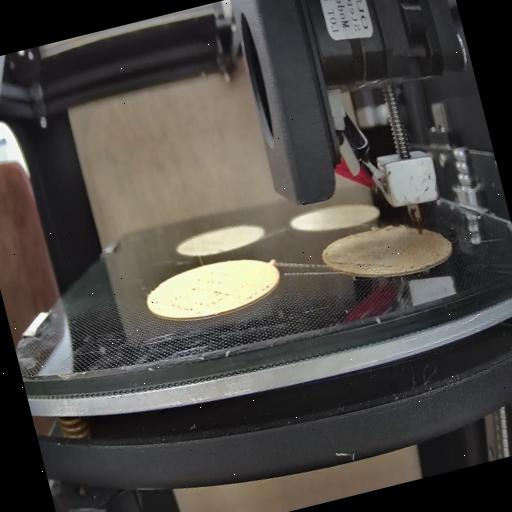under_extrusion: (150, 269, 272, 322), (329, 244, 393, 284), (401, 231, 458, 275)
